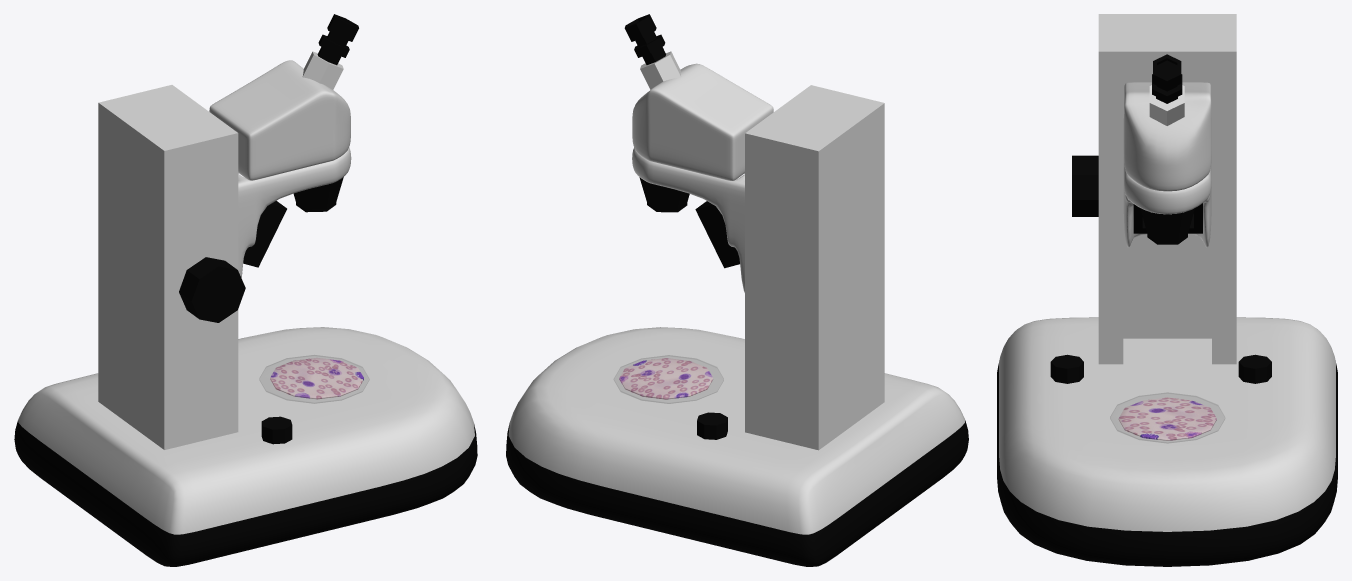
Rendered from microscope.fbx.
3 renders of one model, left to right at view 1: azimuth 30°, elevation 25°; view 2: azimuth 150°, elevation 25°; view 3: azimuth 270°, elevation 25°, orthographic. The views are drawn at different scales.
Visible parts, largest first — view 1: pCube1, pCube2, pCube7, slider, pCylinder6, adjust2, slider1, pCylinder8, light, pCylinder7, pCylinder9, adjust; view 2: pCube1, pCube2, pCube7, slider, pCylinder6, slider1, light, pCylinder8, pCylinder7, pCylinder9, adjust1; view 3: pCube1, pCube2, pCube7, slider, slider1, pCylinder6, adjust2, pCylinder7, pCylinder8, pCylinder9, adjust1, adjust (+1 smaller).
Part boxes in pixels (x1=…): pCube1: x1=14, y1=327, x2=477, y2=566; pCube2: x1=98, y1=85, x2=238, y2=449; pCube7: x1=209, y1=60, x2=350, y2=180; slider: x1=259, y1=355, x2=369, y2=403; pCylinder6: x1=238, y1=147, x2=351, y2=277; adjust2: x1=179, y1=257, x2=245, y2=322; slider1: x1=270, y1=357, x2=363, y2=399; pCylinder8: x1=317, y1=14, x2=358, y2=65; light: x1=243, y1=200, x2=286, y2=267; pCylinder7: x1=293, y1=177, x2=343, y2=212; pCylinder9: x1=302, y1=51, x2=343, y2=89; adjust: x1=261, y1=416, x2=292, y2=444; pCube1: x1=506, y1=327, x2=968, y2=566; pCube2: x1=745, y1=85, x2=884, y2=450; pCube7: x1=632, y1=63, x2=773, y2=180; slider: x1=613, y1=355, x2=723, y2=403; pCylinder6: x1=632, y1=147, x2=744, y2=292; slider1: x1=619, y1=358, x2=713, y2=399; light: x1=695, y1=201, x2=739, y2=268; pCylinder8: x1=624, y1=14, x2=665, y2=64; pCylinder7: x1=639, y1=177, x2=689, y2=212; pCylinder9: x1=640, y1=51, x2=680, y2=89; adjust1: x1=697, y1=412, x2=727, y2=439; pCube1: x1=997, y1=317, x2=1337, y2=566; pCube2: x1=1098, y1=14, x2=1236, y2=364; pCube7: x1=1124, y1=82, x2=1211, y2=191; slider: x1=1110, y1=392, x2=1225, y2=443; slider1: x1=1118, y1=397, x2=1216, y2=440; pCylinder6: x1=1123, y1=114, x2=1211, y2=247; adjust2: x1=1072, y1=155, x2=1098, y2=216; pCylinder7: x1=1140, y1=208, x2=1194, y2=244; pCylinder8: x1=1152, y1=54, x2=1182, y2=103; pCylinder9: x1=1149, y1=85, x2=1184, y2=125; adjust1: x1=1238, y1=354, x2=1271, y2=383; adjust: x1=1050, y1=354, x2=1083, y2=383.
Bounding box in the file's own units: 0.9919 × 1.17 × 0.7787.
